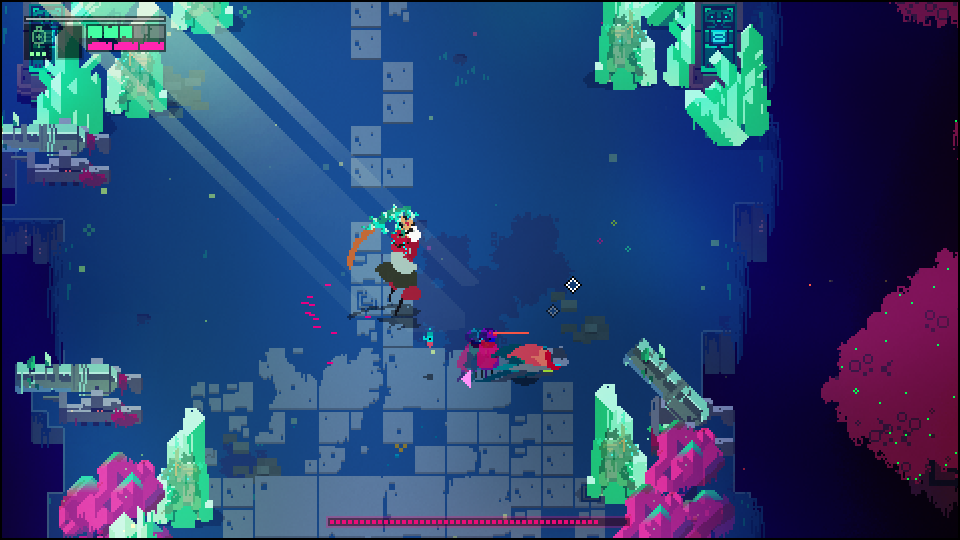hanged_man: (343, 203, 420, 321)
player: (498, 343, 570, 383)
